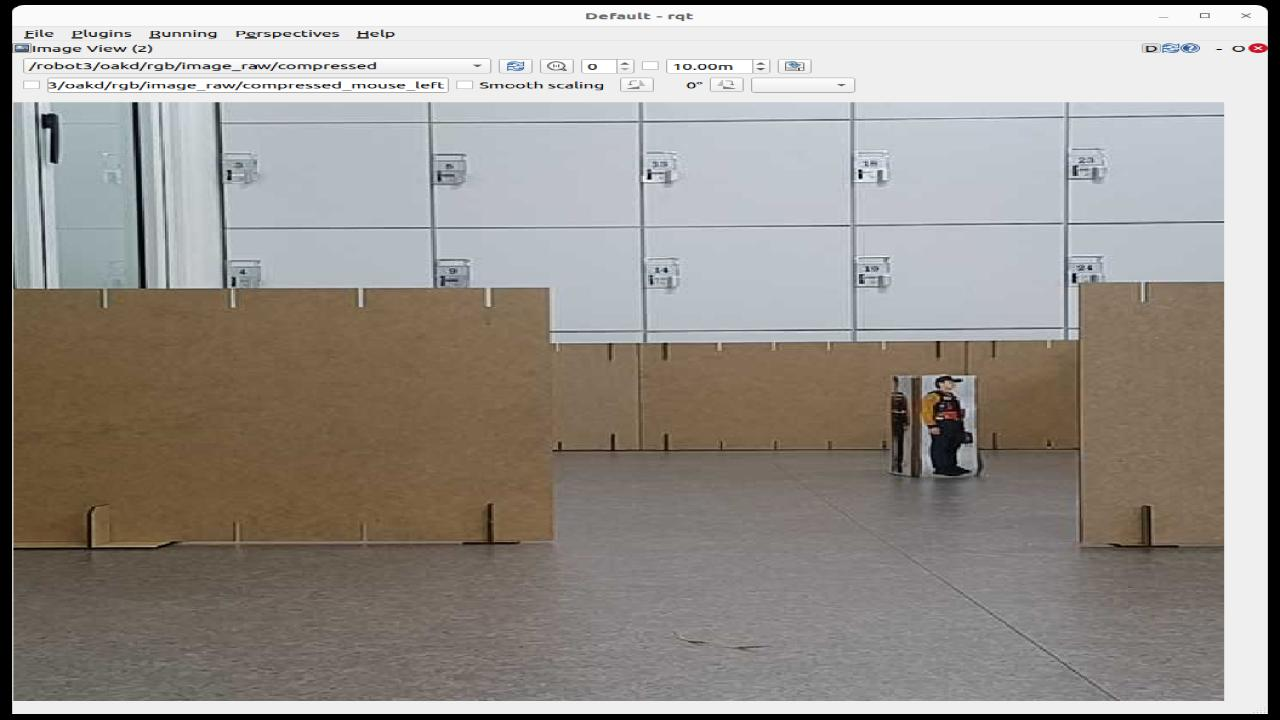Responder: (922, 376, 967, 475), (891, 381, 912, 474)
